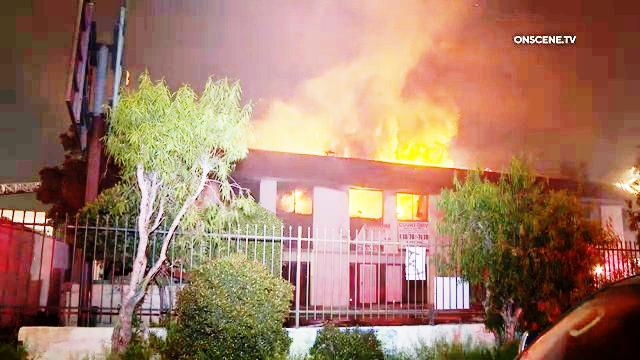fire: (396, 137, 443, 167), (396, 194, 412, 219), (349, 194, 369, 212)
smoke: (264, 15, 429, 110)
